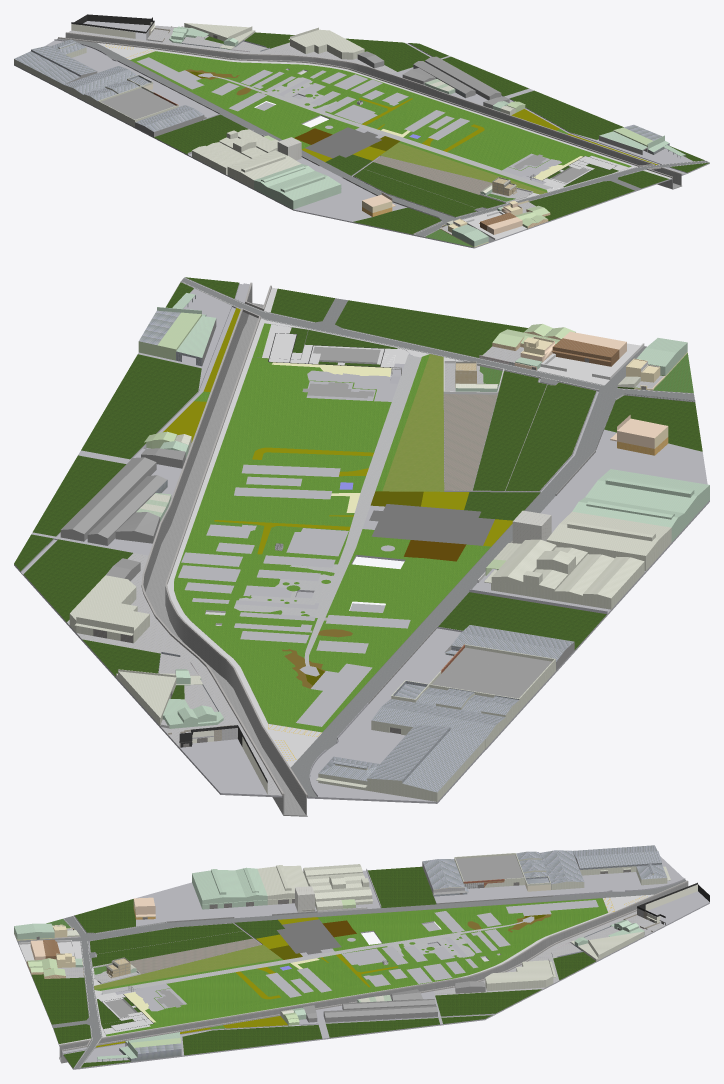
File: surround.glb
3 renders of one model, top to bottom at view 1: azimuth 30°, elevation 25°; view 2: azimuth 150°, elevation 25°; view 3: azimuth 270°, elevation 25°, orthographic. The views are drawn at different scales.
Visible parts, largest first — view 1: object 35, root, 馬路, object 40, object 41, object 38, object 3; view 2: object 35, root, 馬路, object 40, object 38, object 3, object 41; view 3: object 35, root, 馬路, object 40, object 41, object 38, object 3.
Part boxes in pixels (x1,y1,x2,y2): object 35: (14,14,709,248); root: (130,51,634,194); 馬路: (56,38,708,241); object 40: (65,33,681,189); object 41: (58,32,682,177); object 38: (353,156,505,216); object 3: (305,127,381,158); object 35: (14,277,709,803); root: (174,320,540,732); 馬路: (180,277,694,797); object 40: (143,285,307,816); object 38: (443,370,596,491); object 3: (369,504,494,545); object 41: (141,282,307,796); object 35: (14,845,709,1069); root: (94,898,608,1036); 馬路: (17,879,686,1068); object 40: (59,882,688,1063); object 41: (59,880,688,1051); object 38: (89,923,261,974); object 3: (277,919,341,954).
Size of the model in its own units: 405 by 25.5 by 547.
58 materials, 36 textured.
